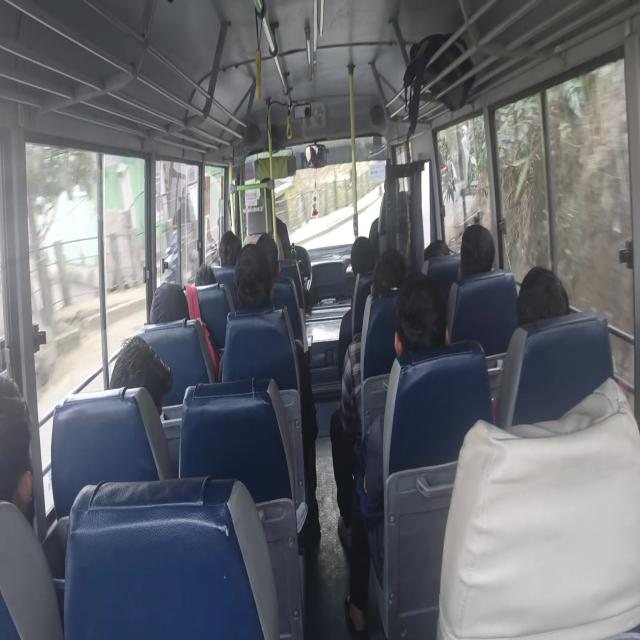person: (0, 368, 76, 590), (91, 341, 179, 418), (517, 262, 572, 334), (150, 271, 194, 342), (185, 245, 233, 305), (378, 256, 424, 316), (410, 283, 455, 344), (257, 230, 298, 294), (242, 245, 276, 308), (335, 242, 382, 282), (464, 226, 494, 278), (222, 222, 249, 276), (432, 231, 464, 273)
